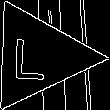L_N: (19, 31, 57, 82)
